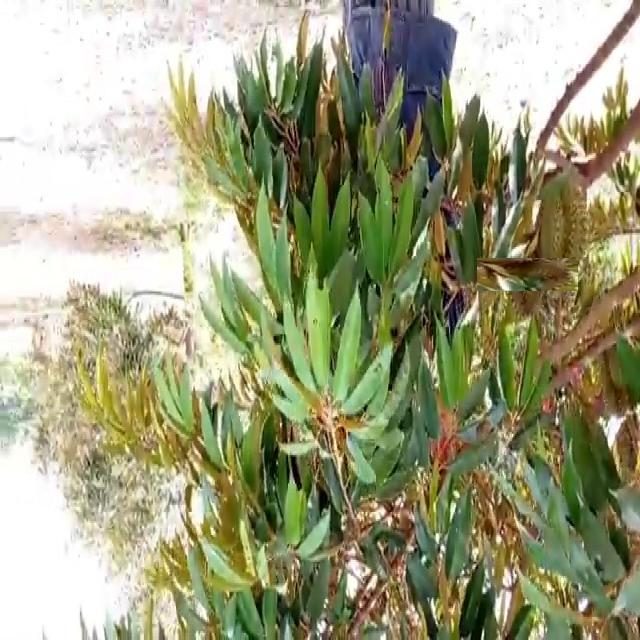durian: (536, 170, 592, 306), (494, 241, 561, 308), (596, 331, 636, 424)
